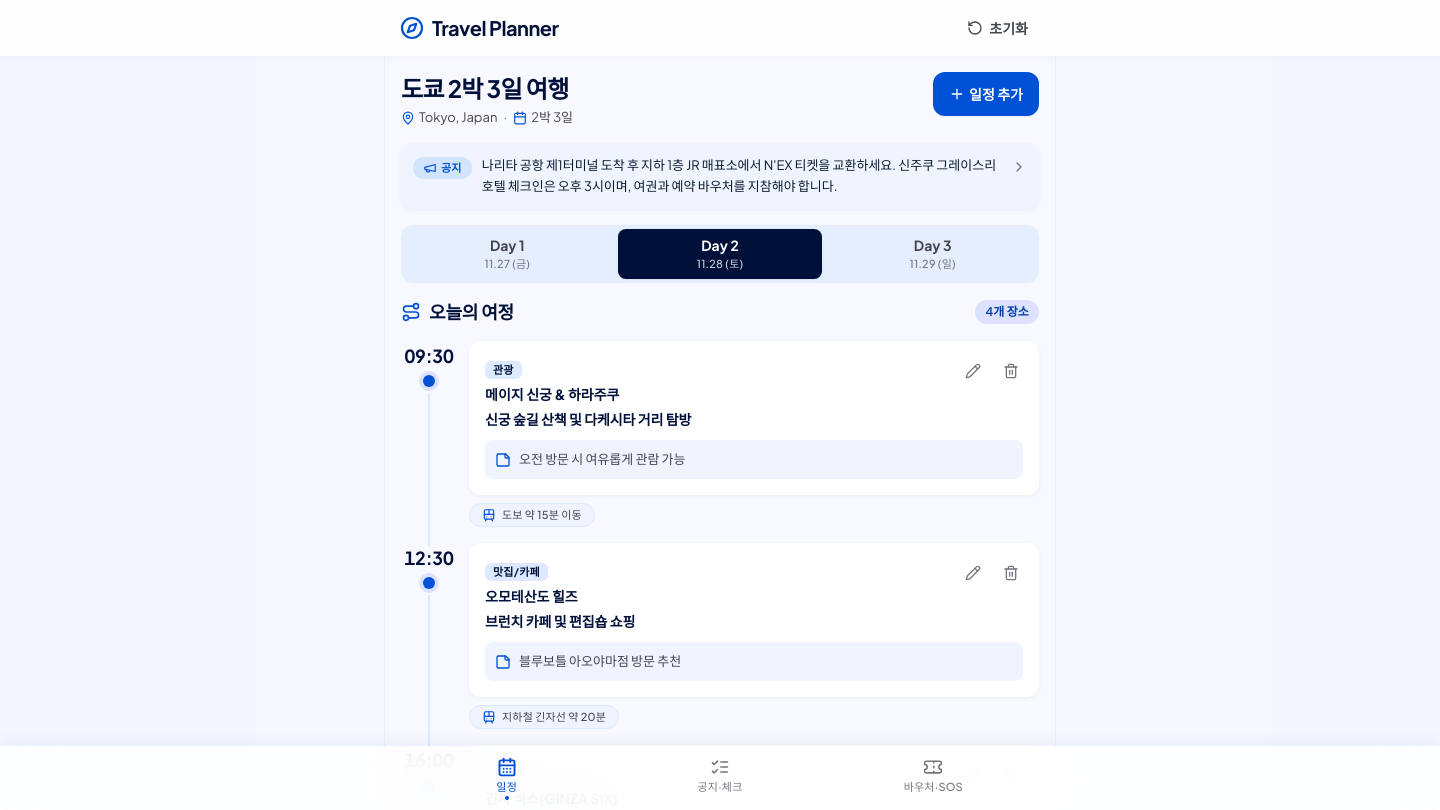
Scenario: Travel-Planner-MVP 핵심 기능 통합 테스트 › Day 1~3 탭 전환 및 일정 추가·수정·삭제와 LocalStorage 영속성이 동작한다
Earlier steps of the test are not shown.
Later steps or results of the test are not shown.
Expected: the heading "메이지 신궁 & 하라주쿠" is shown, [485, 384, 620, 402]
Click the button "일정 추가". click: (986, 94)
box: [933, 72, 1039, 116]
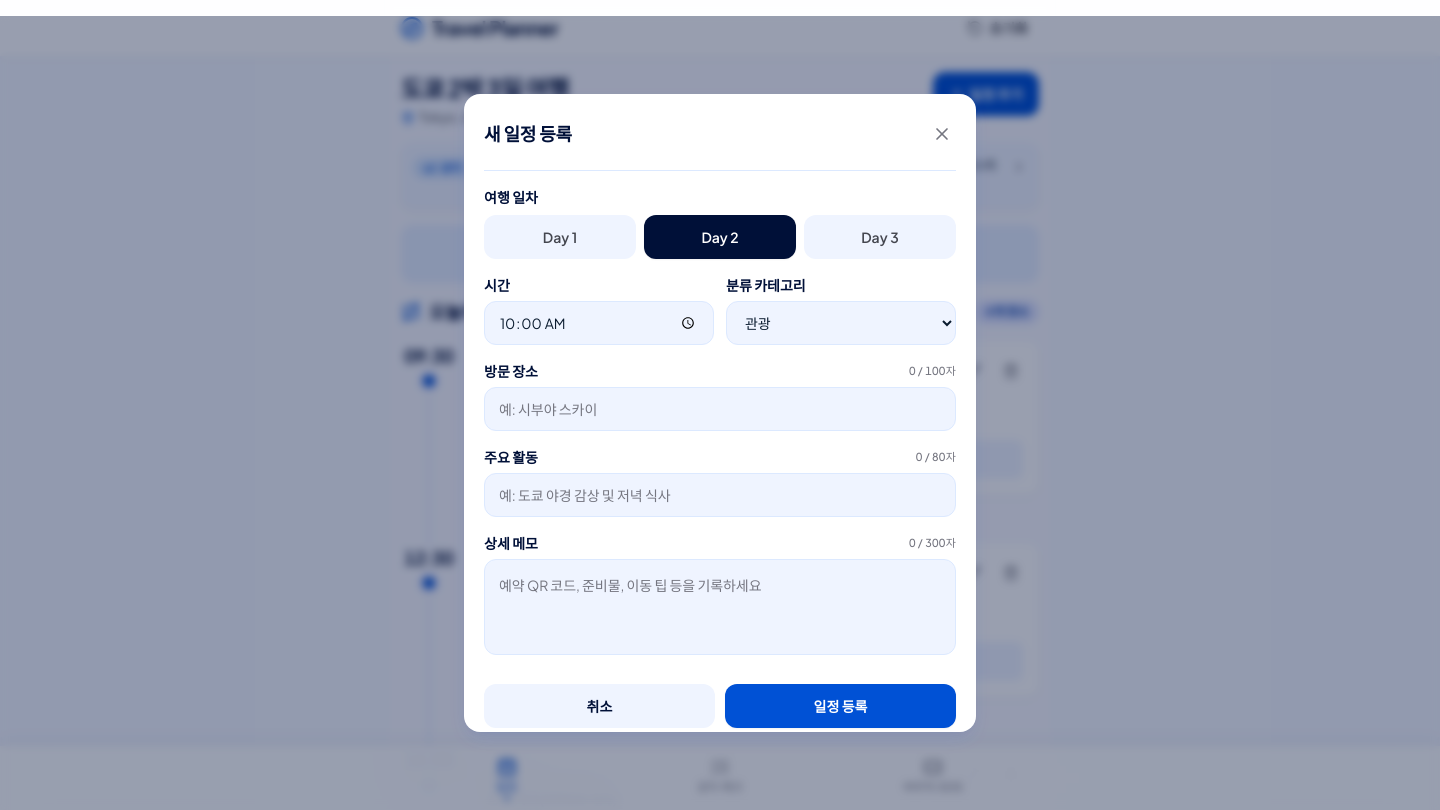
Type "아키하바라 전자상가" into the field labelled "방문 장소". click: (720, 409)
box: [484, 387, 956, 431]
Type "피규어 및 전자제품 구경" into the field labelled "주요 활동". click: (720, 495)
box: [484, 473, 956, 517]
Type "라디오회관 방문" into the text box labelled "상세 메모". click: (720, 607)
box: [484, 559, 956, 655]
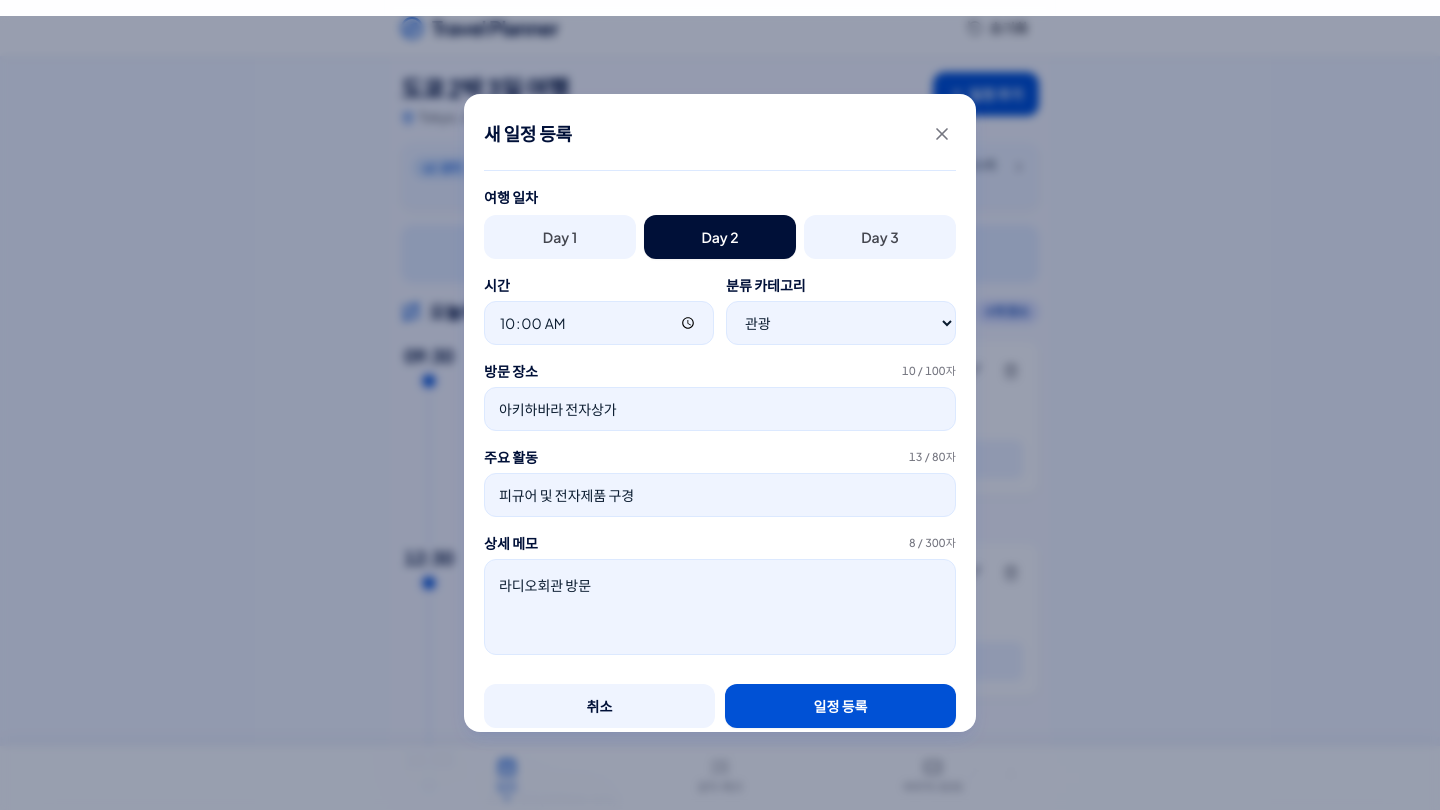
Click the button "일정 등록". click: (840, 706)
box: [725, 684, 956, 728]
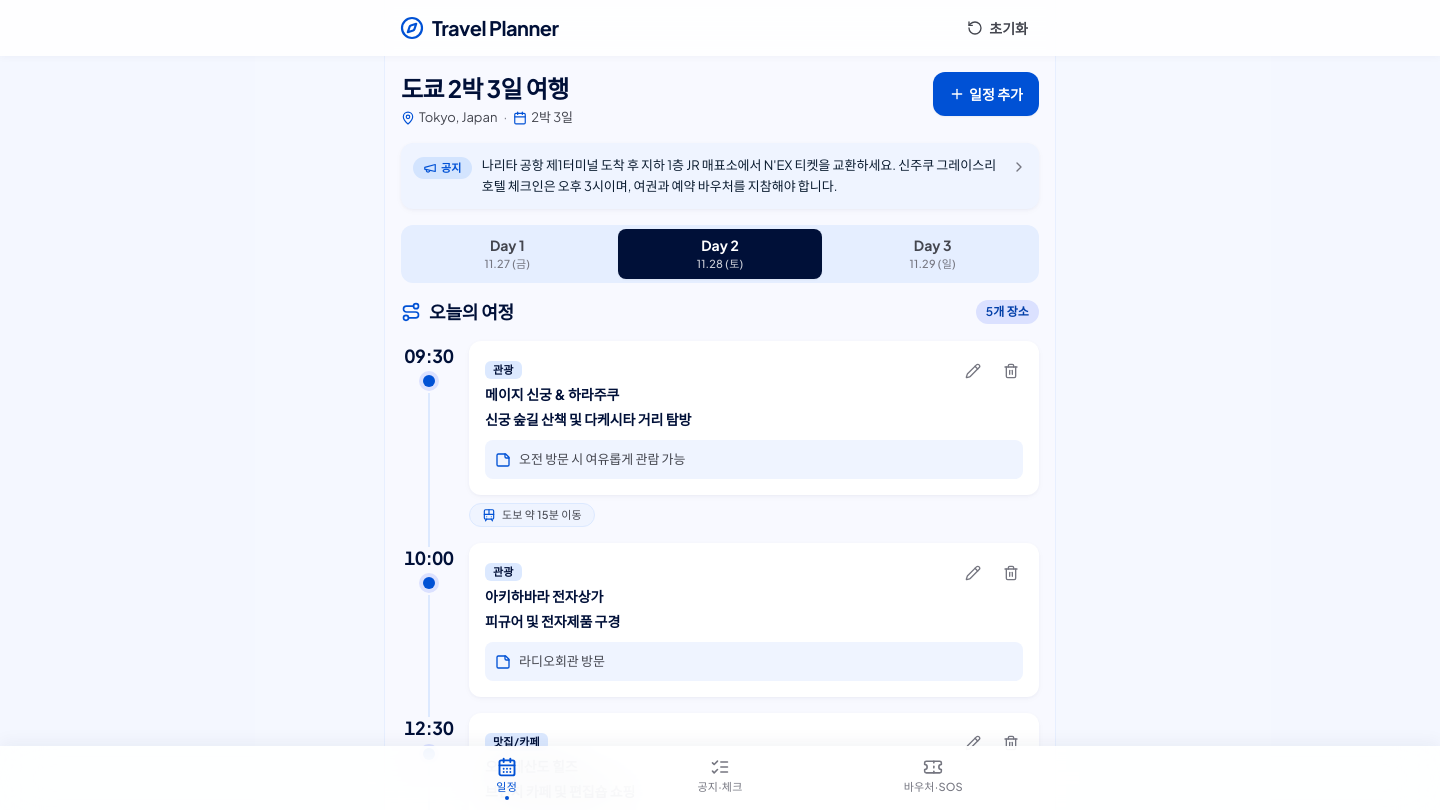
Expected: the heading "아키하바라 전자상가" is shown, [485, 587, 603, 605]
Click the button named "일정 수정" in the row of "메이지 신궁 & 하라주쿠". click: (973, 370)
box: [955, 352, 991, 388]
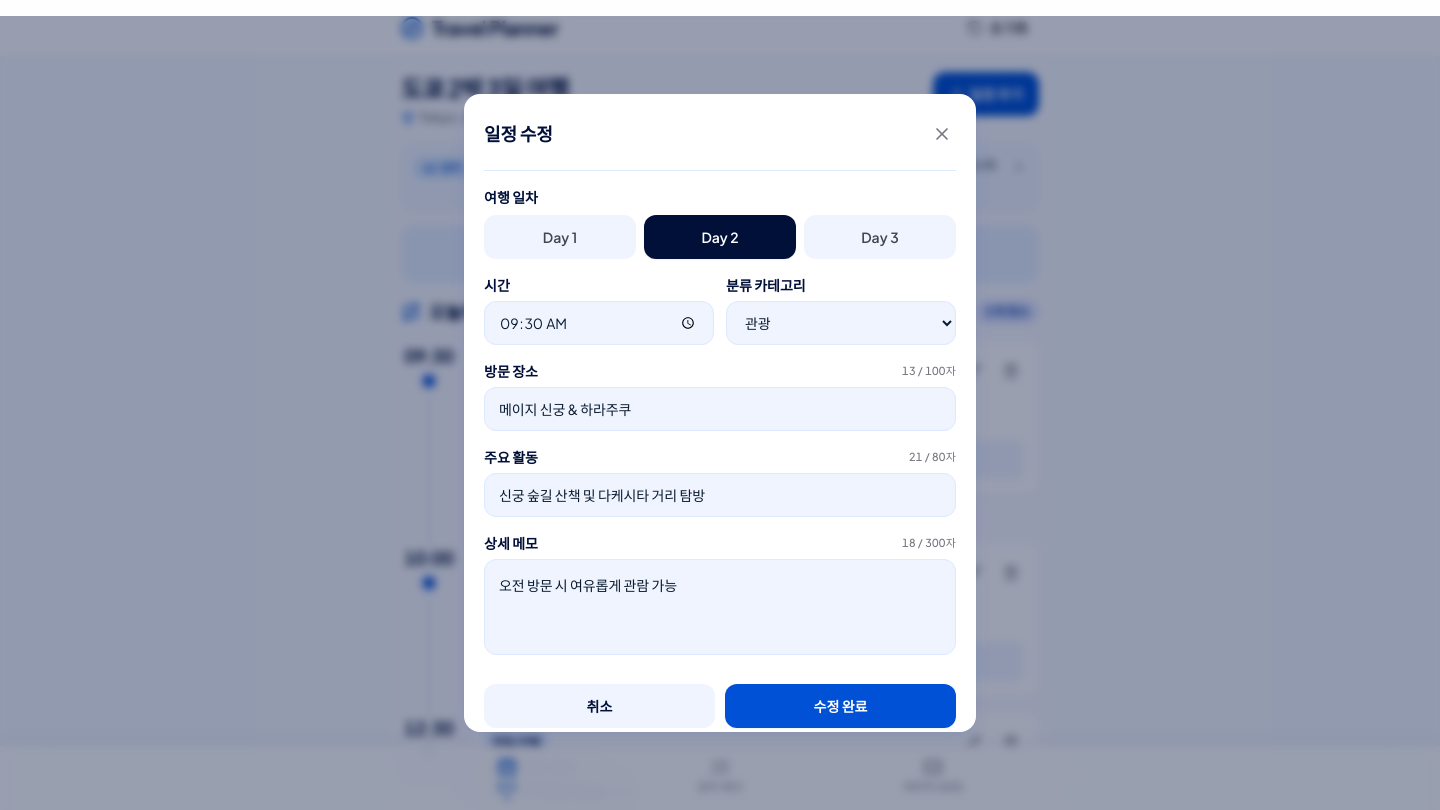
Replace the text in the field labelled "방문 장소" with "메이지 신궁 (오전 산책)". click: (720, 409)
box: [484, 387, 956, 431]
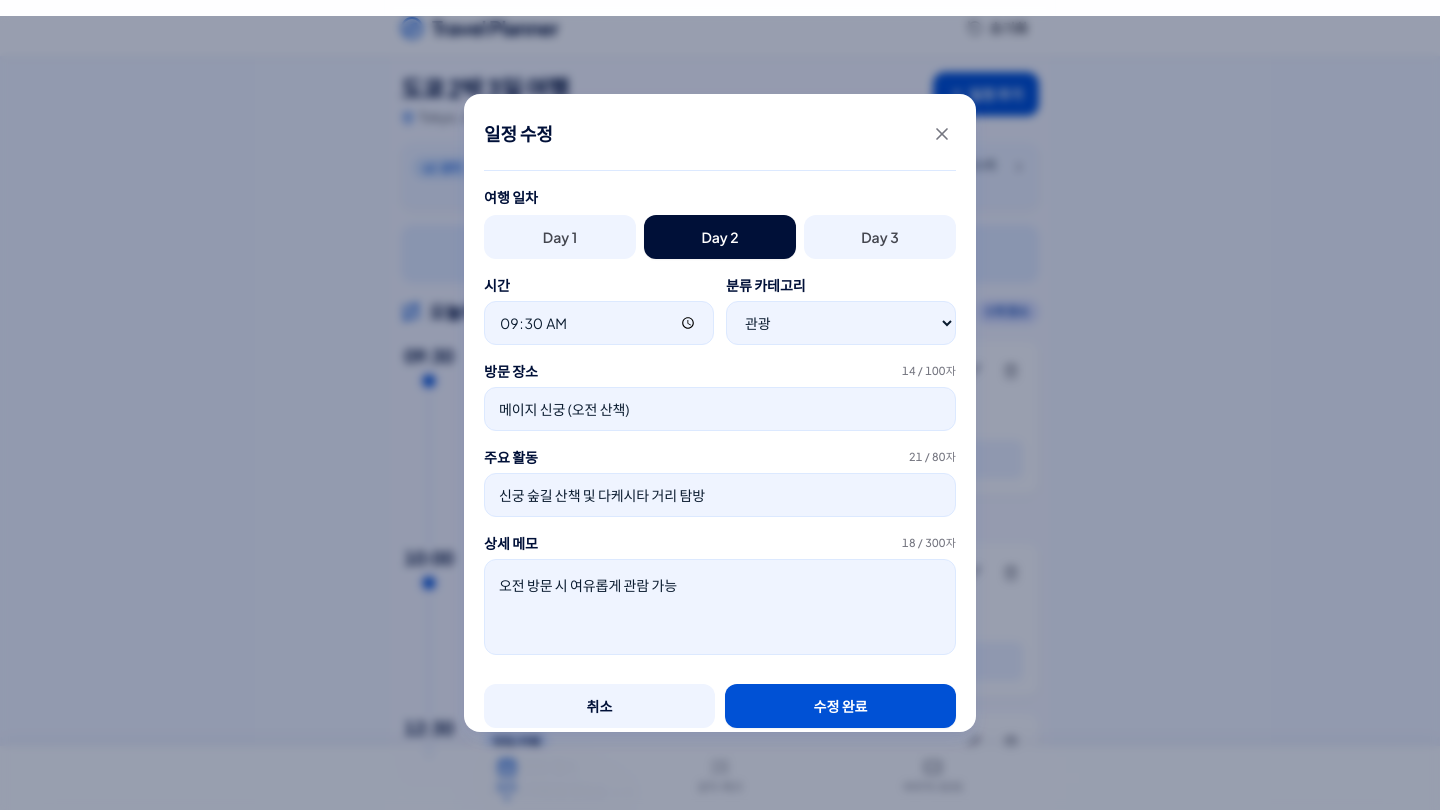
Click the button "수정 완료". click: (840, 706)
box: [725, 684, 956, 728]
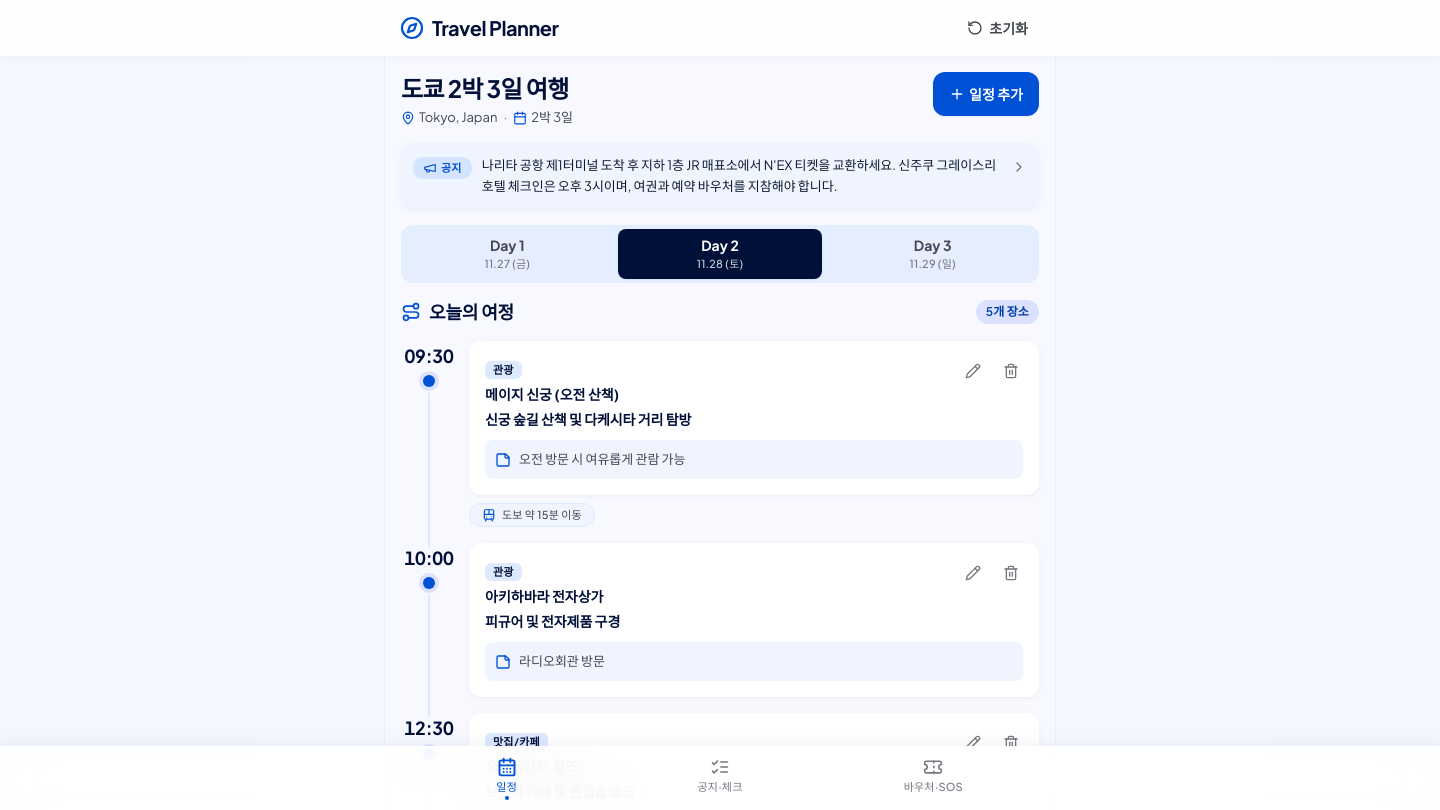
Expected: the heading "메이지 신궁 (오전 산책)" is shown, [485, 384, 619, 402]
